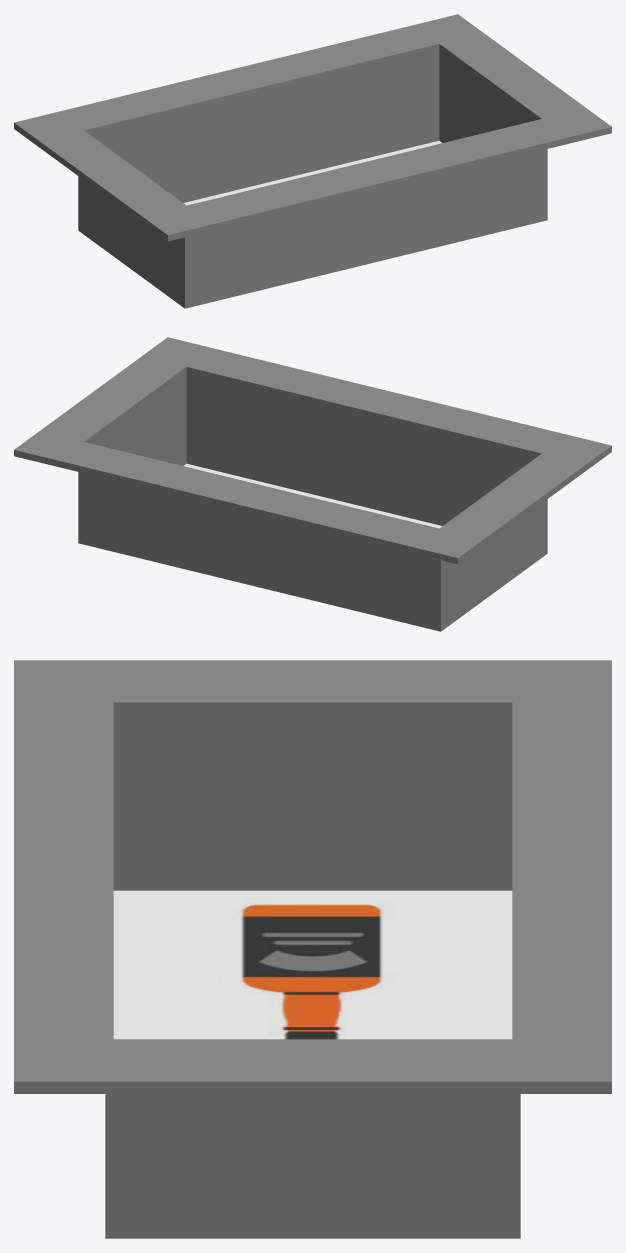
The model's file is bin_bootlegger.dae.
3 renders of one model, top to bottom at view 1: azimuth 30°, elevation 25°; view 2: azimuth 150°, elevation 25°; view 3: azimuth 270°, elevation 25°, orthographic. The views are drawn at different scales.
Visible parts, largest first — view 1: bin; view 2: bin; view 3: bin.
Boxes of the visible parts, left/top/right/bottom form: bin: left=14, top=14, right=611, bottom=308; bin: left=14, top=337, right=611, bottom=631; bin: left=14, top=660, right=611, bottom=1238.
Bounding box in the file's own units: 0.762 × 0.4572 × 0.1651.
2 materials, 1 textured.
